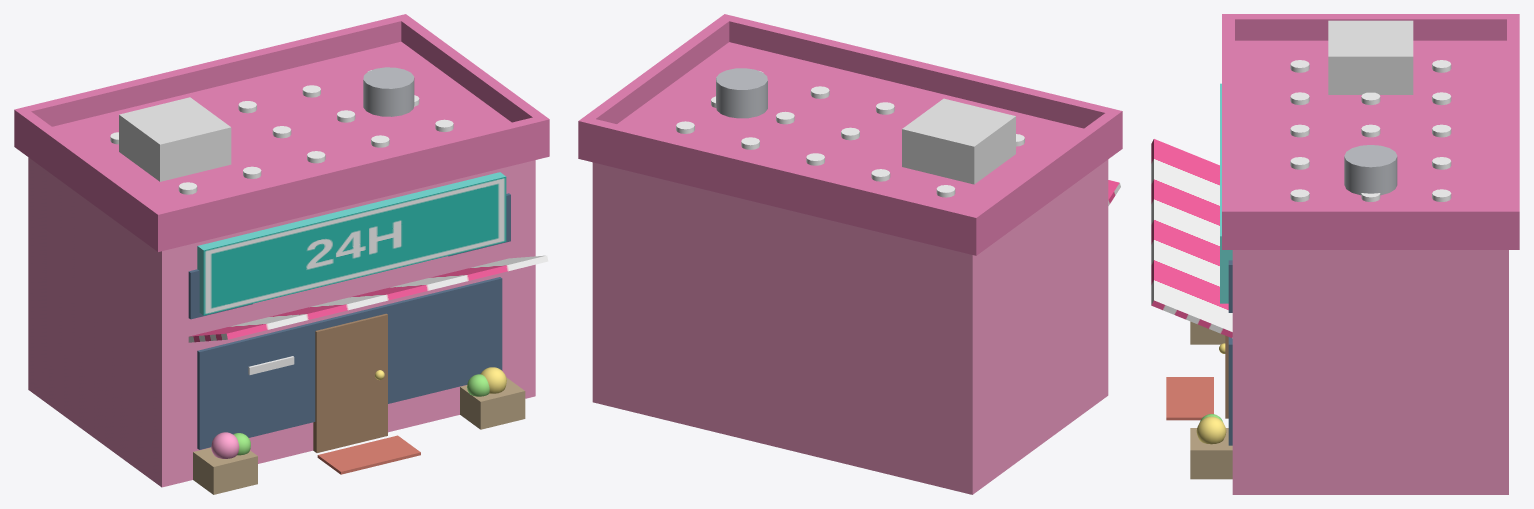
The model's file is shop-24h.glb.
3 renders of one model, left to right at view 1: azimuth 30°, elevation 25°; view 2: azimuth 150°, elevation 25°; view 3: azimuth 270°, elevation 25°, orthographic. The views are drawn at different scales.
Size of the model in its own units: 4.4 by 3.2 by 3.47.
Materials: 37 (2 with a texture image).
